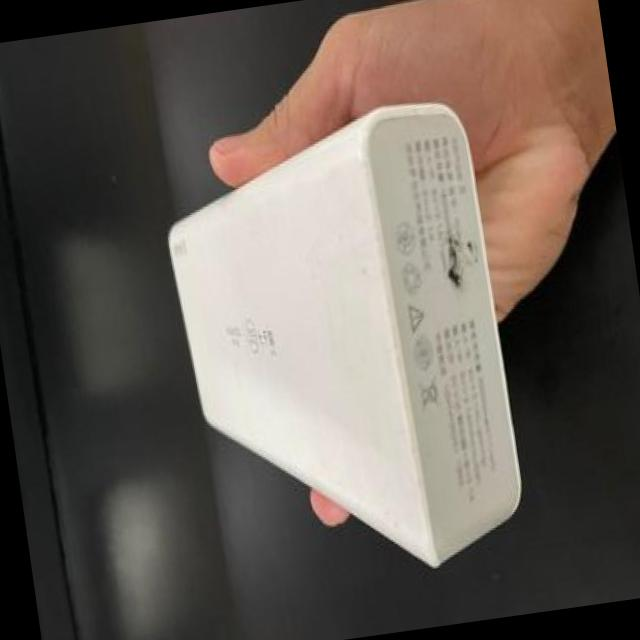portable-charger: (134, 85, 542, 604)
